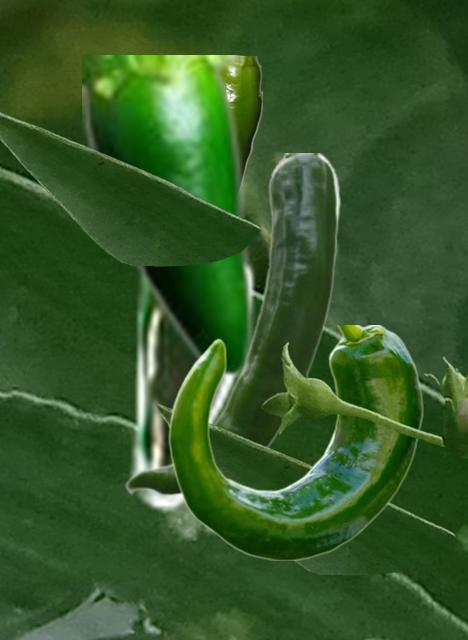green_chili: (124, 153, 340, 496), (168, 325, 423, 559), (82, 55, 254, 379), (123, 262, 256, 511), (226, 56, 261, 171)
